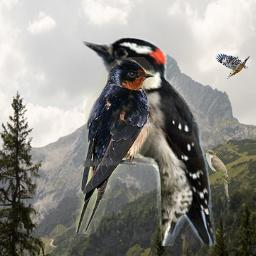Cuckoo: (202, 148, 231, 202)
Swallow: (72, 57, 155, 234)
Woodpecker: (81, 36, 217, 246), (215, 53, 250, 79)
